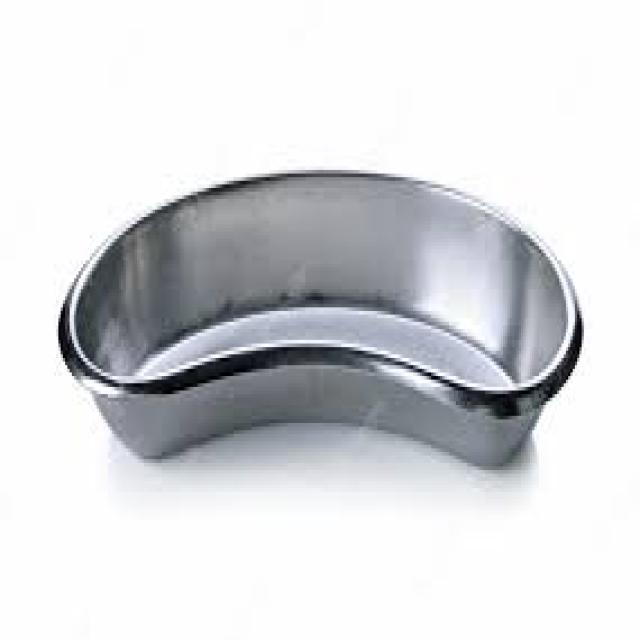Kidney Tray: (55, 162, 575, 482)
